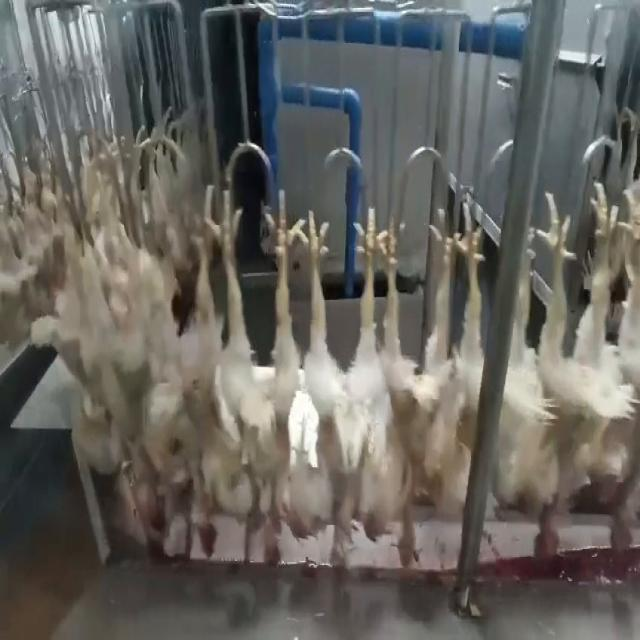chicken: (522, 176, 614, 577), (226, 194, 307, 569), (307, 198, 385, 573), (387, 197, 452, 578), (169, 175, 220, 570), (449, 195, 489, 518), (611, 178, 639, 566)
